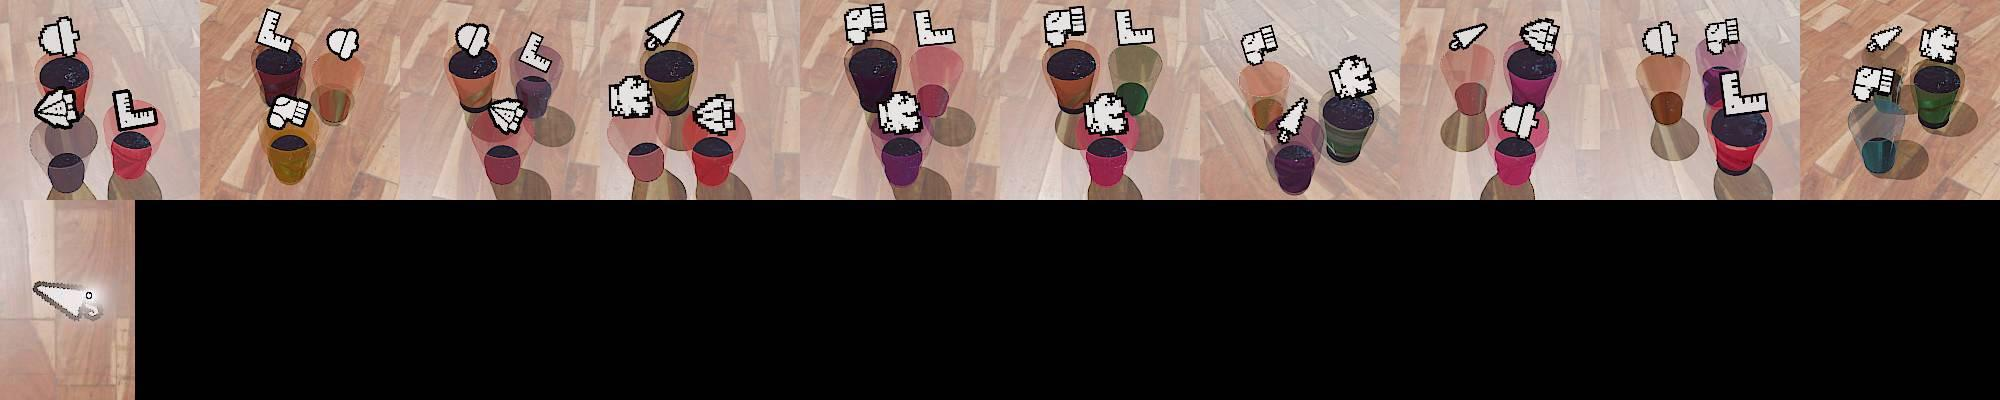icon: (31, 279, 105, 324), (1718, 70, 1768, 120), (1329, 54, 1376, 99), (605, 74, 653, 118), (1082, 90, 1129, 135), (876, 90, 923, 135), (255, 8, 297, 56), (691, 92, 737, 135), (33, 87, 80, 129), (110, 89, 158, 130), (843, 4, 889, 46), (1042, 6, 1087, 48), (643, 9, 685, 52), (912, 8, 957, 48), (1272, 94, 1310, 140), (1849, 65, 1898, 101), (1240, 22, 1279, 65), (514, 31, 552, 75), (38, 18, 79, 59), (1519, 17, 1561, 56), (1499, 101, 1541, 140), (1112, 8, 1154, 47), (1917, 24, 1958, 64), (267, 94, 311, 129), (1642, 19, 1679, 59), (487, 97, 526, 134), (1704, 18, 1741, 56), (454, 22, 492, 59), (325, 27, 360, 61), (1449, 22, 1489, 51), (1866, 25, 1902, 54)
